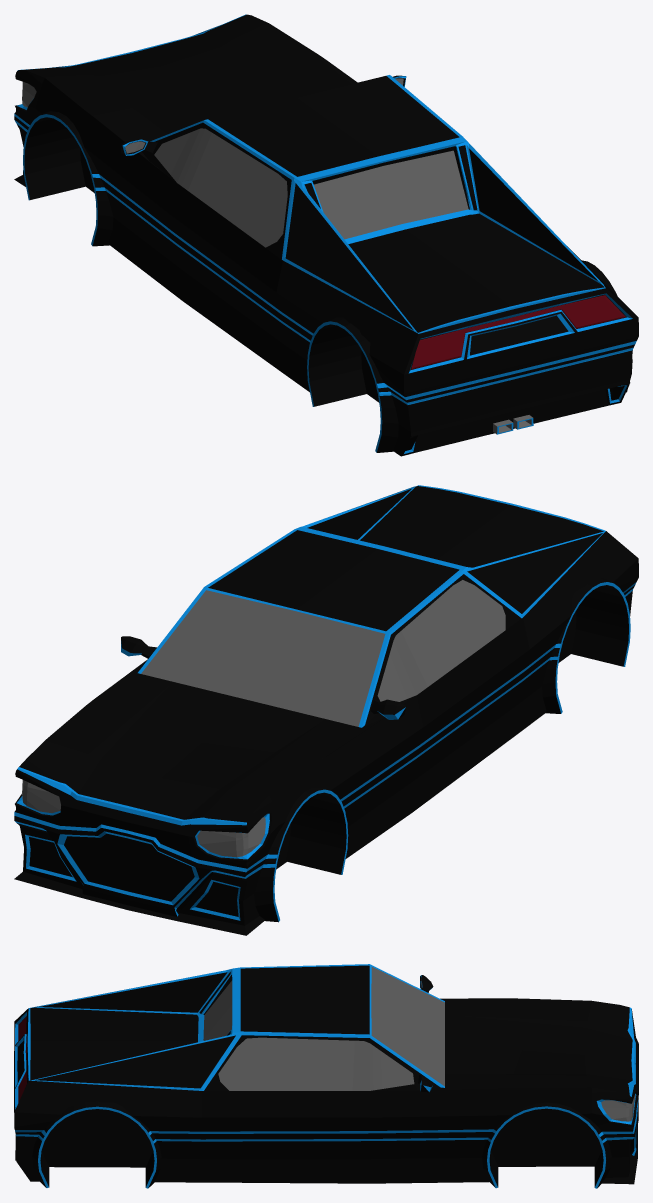
The model's file is CapStone_MED_car_V2.1.fbx.
3 views of the same model, one above another, from view 1: azimuth 30°, elevation 25°; view 2: azimuth 150°, elevation 25°; view 3: azimuth 270°, elevation 25° (orthographic). The views are drawn at different scales.
Visible parts, largest first — view 1: Car_Body_Med; view 2: Car_Body_Med; view 3: Car_Body_Med.
Part boxes in pixels (x1,y1,x2,y2): Car_Body_Med: (14,14,638,456); Car_Body_Med: (14,485,638,935); Car_Body_Med: (14,964,638,1188).
Size of the model in its own units: 308 by 183 by 737.
